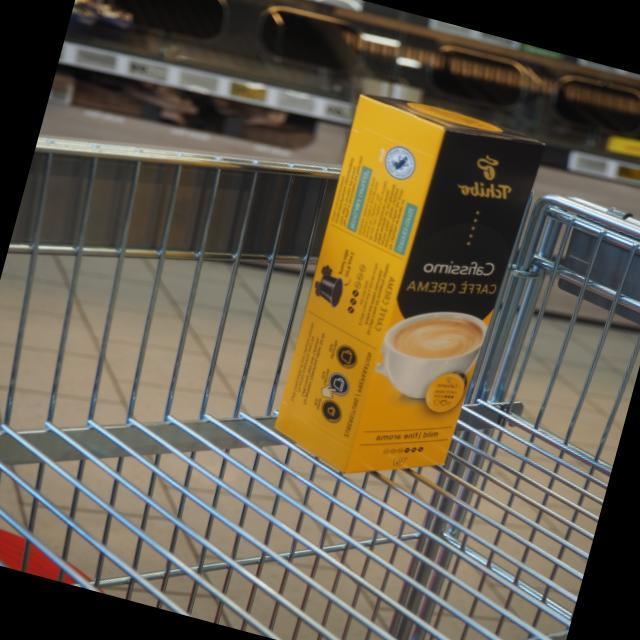Simo CCMild bigpack: (334, 125, 552, 479)
